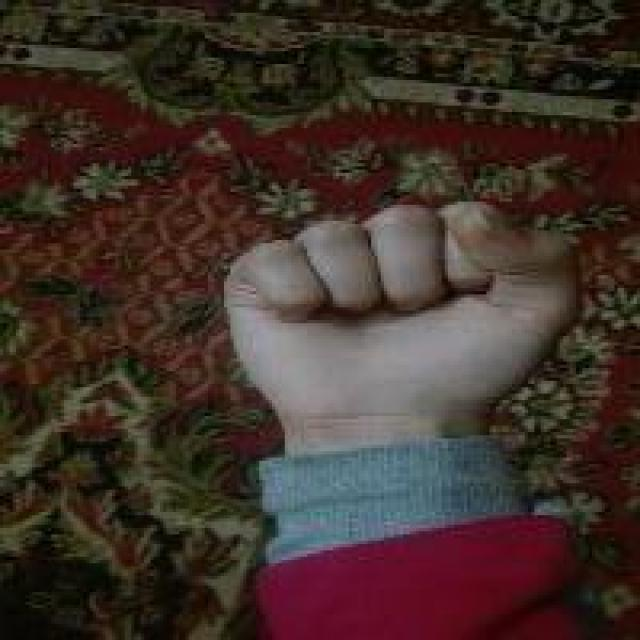S: (217, 192, 588, 413)
